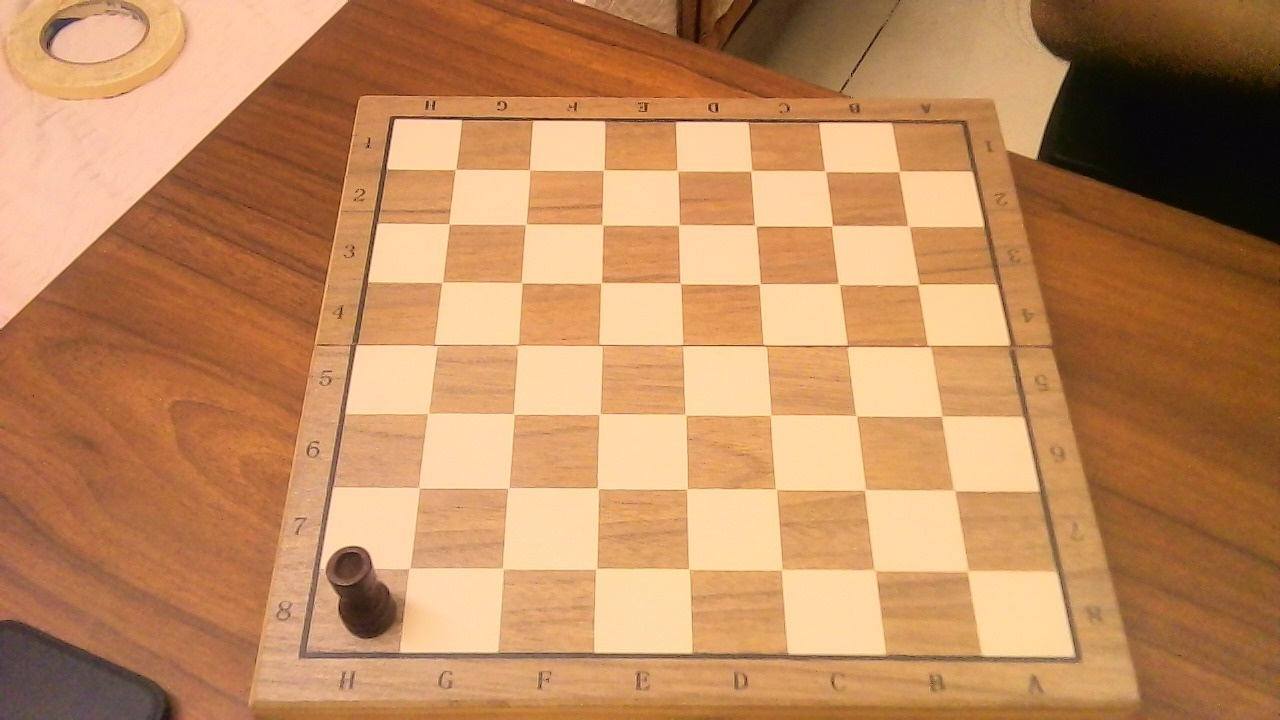r: (319, 532, 403, 642)
